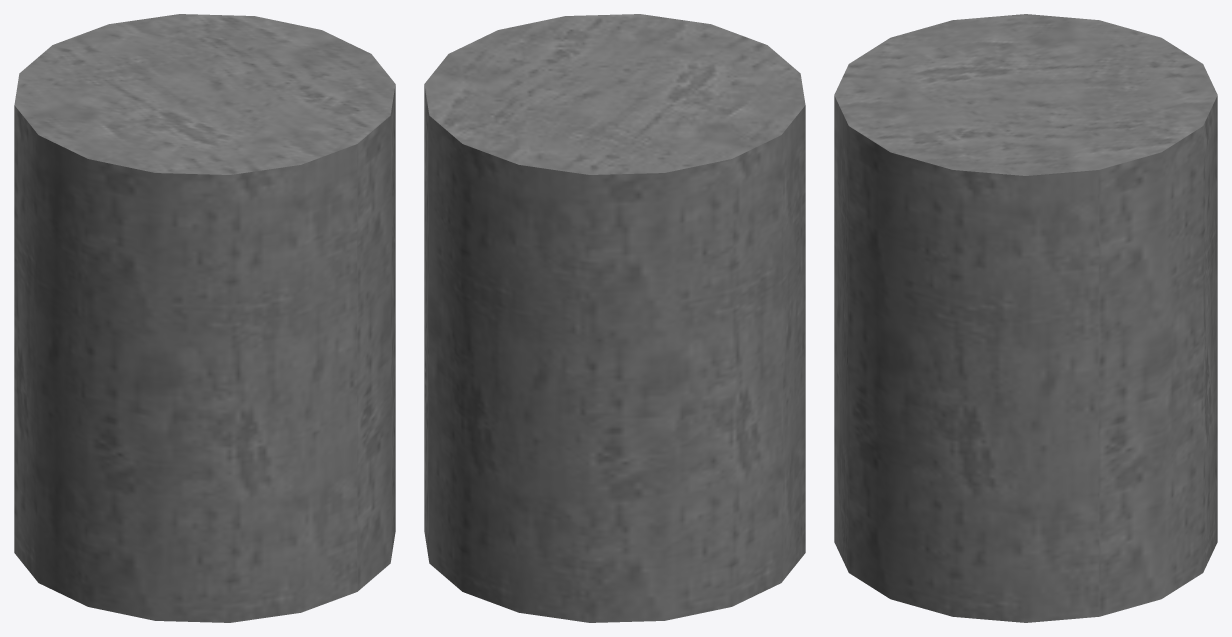
Rendered from icub_l_ankle_1.dae.
3 views of the same model, side by side, from view 1: azimuth 30°, elevation 25°; view 2: azimuth 150°, elevation 25°; view 3: azimuth 270°, elevation 25° (orthographic).
Parts seen in each view (by area): view 1: l_ankle_1_mesh; view 2: l_ankle_1_mesh; view 3: l_ankle_1_mesh.
Boxes of the visible parts, bbox=[...] form: l_ankle_1_mesh: bbox=[14, 14, 395, 622]; l_ankle_1_mesh: bbox=[424, 14, 805, 622]; l_ankle_1_mesh: bbox=[834, 14, 1217, 622].
Bounding box in the file's own units: 0.049 × 0.049 × 0.063.
1 material, 1 textured.
